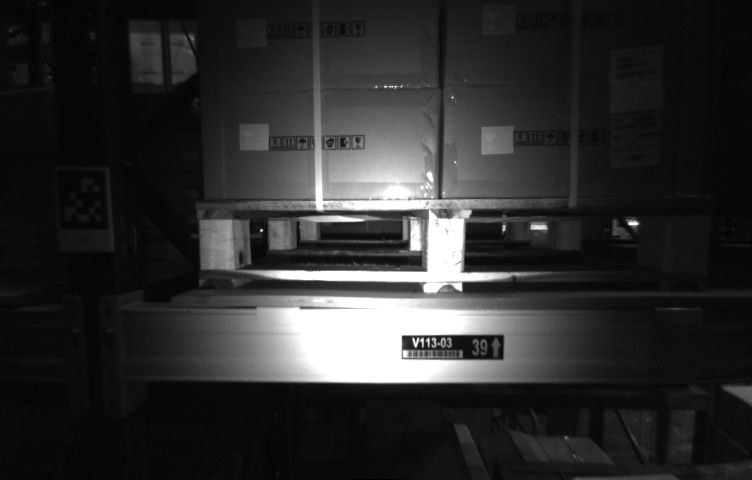True Barcode: (614, 113, 661, 169)
